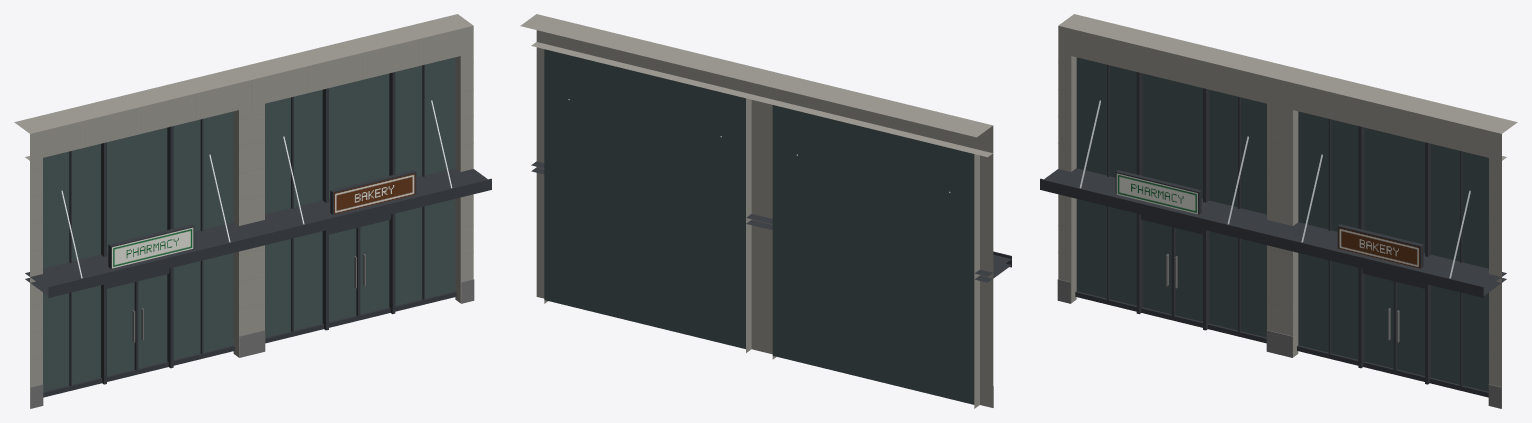
Rendered from base-w3_close.fbx.
3 views of the same model, side by side, from view 1: azimuth 30°, elevation 25°; view 2: azimuth 150°, elevation 25°; view 3: azimuth 330°, elevation 25° (orthographic). The views are drawn at different scales.
Visible parts, largest first — view 1: a2011/0/base-w3_close; view 2: a2011/0/base-w3_close; view 3: a2011/0/base-w3_close.
Boxes of the visible parts, <box> form: a2011/0/base-w3_close: <box>14,14,491,408</box>; a2011/0/base-w3_close: <box>520,14,1011,408</box>; a2011/0/base-w3_close: <box>1040,14,1517,408</box>.
Size of the model in its own units: 12 by 7.1 by 1.6.
